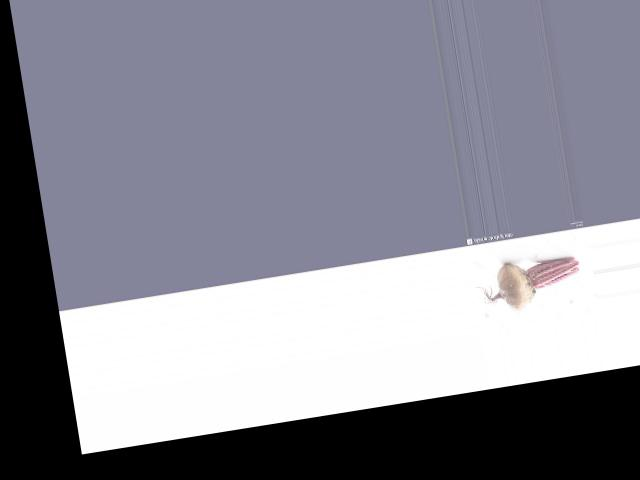beet: (474, 252, 584, 315)
